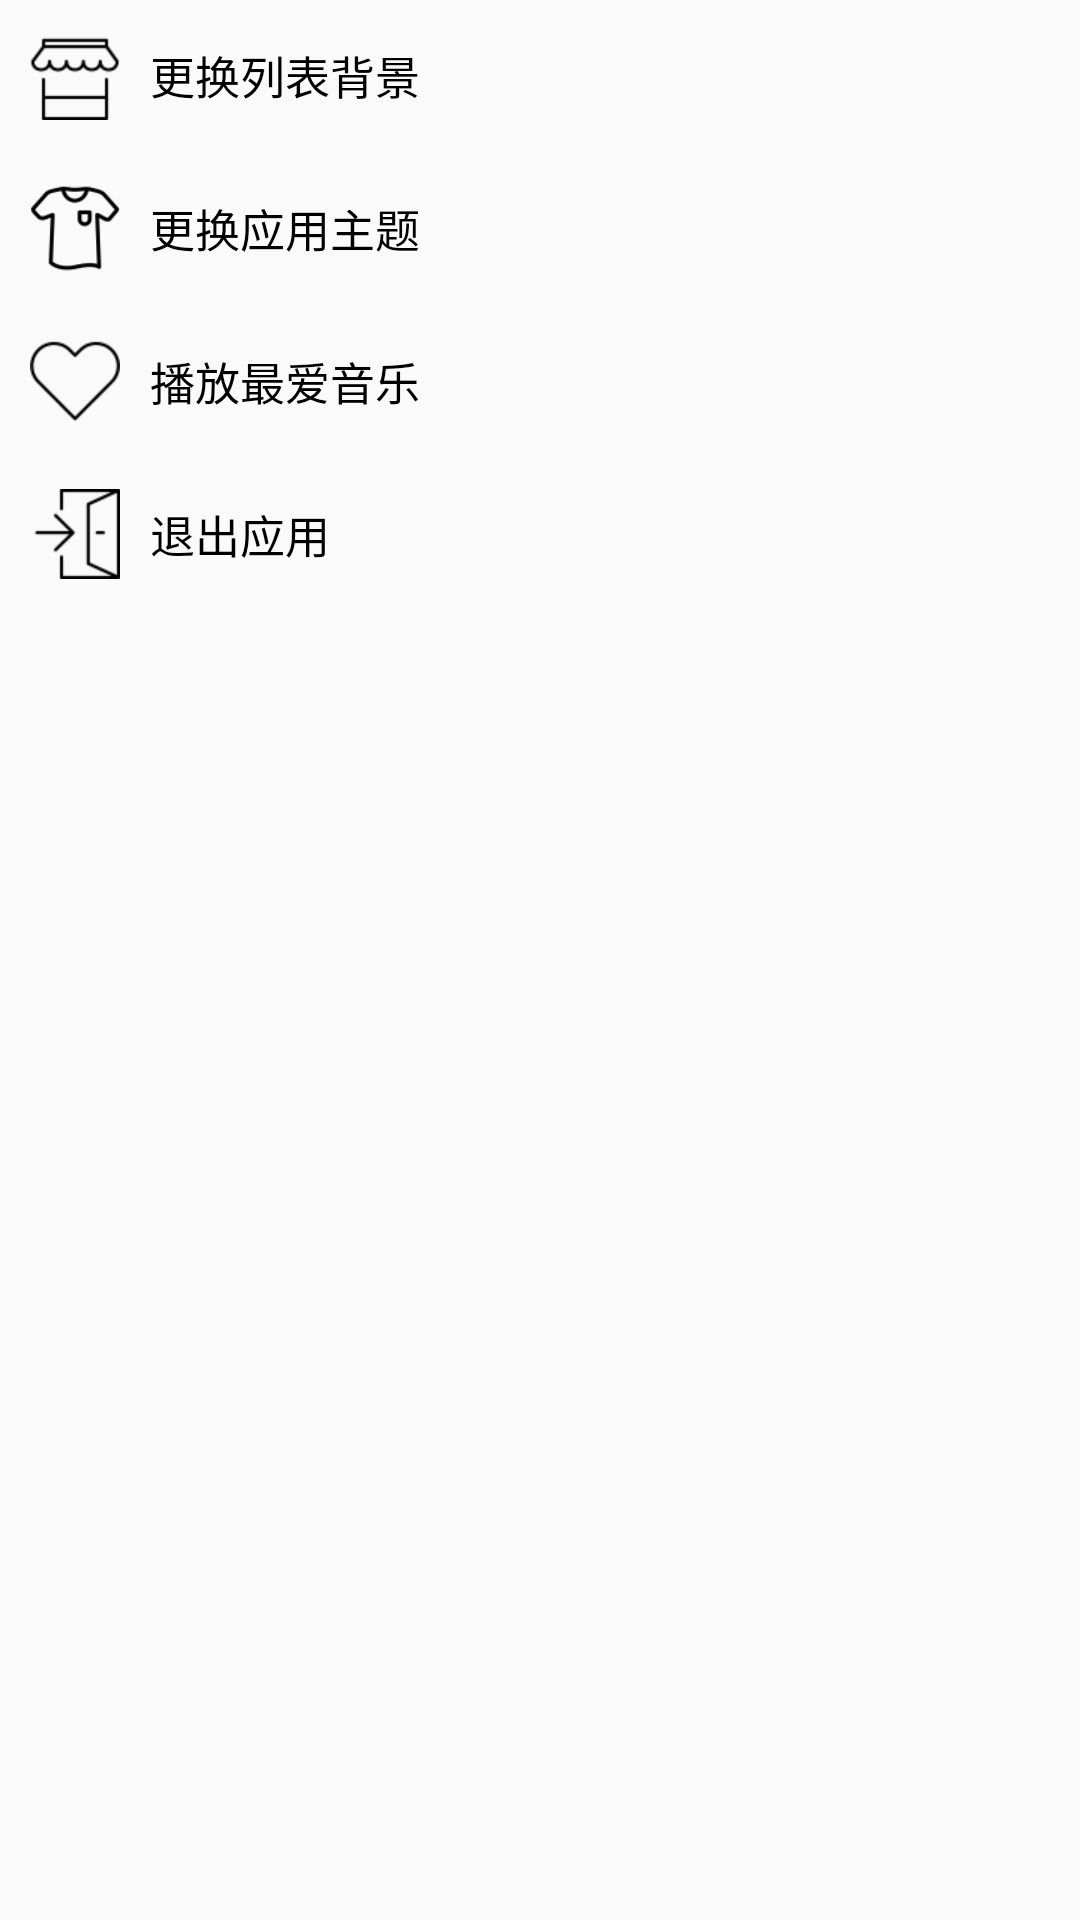

Named icons in this screenshot (1080×1920) and their bounding boxes, (x1, y1, x2, y2):
bestlove: (30, 341, 120, 421)
skin: (31, 186, 120, 271)
